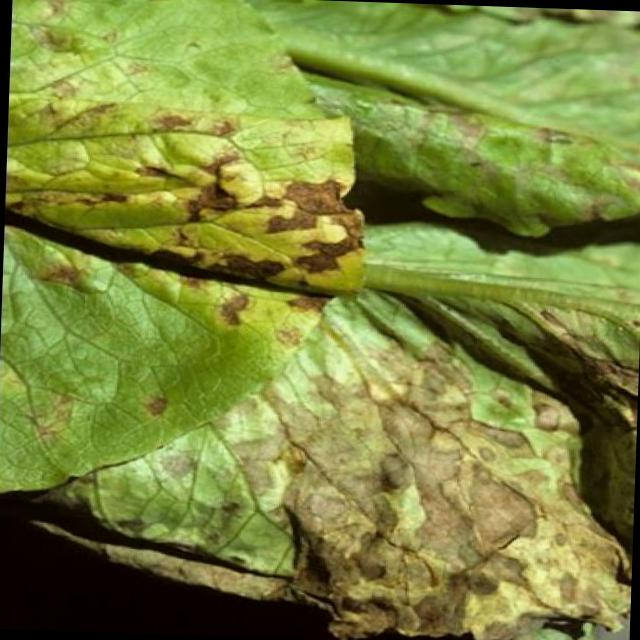Septoria_Blight_on_lettuce: (36, 106, 343, 336)
